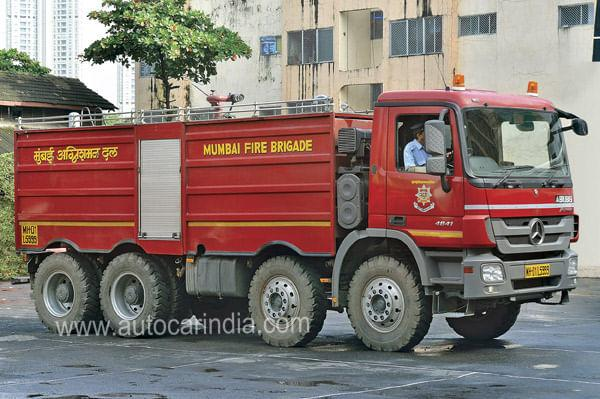ambulance: (12, 90, 600, 369)
